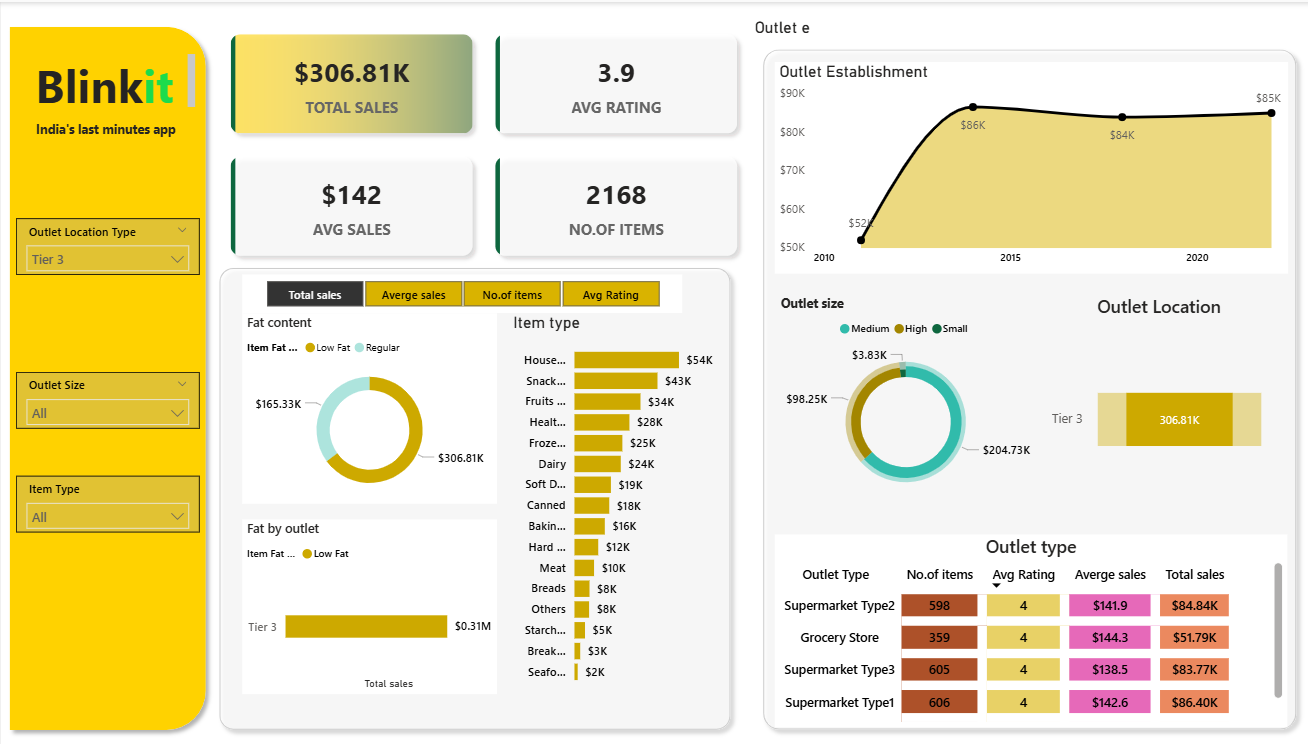

The dashboard page shown, as its layout file describes it:
{"tool":"powerbi","page":{"name":"Page 1","canvas":[1400,800],"ordinal":0},"visuals":[{"type":"shape","box":[0,17.4,225.7,762.2],"z":0},{"type":"textbox","box":[15.6,50.6,194.7,70.1],"z":1000},{"type":"textbox","box":[0,120.7,221.9,33.1],"z":2000},{"type":"cardVisual","fields":{"Data":["BlinkIT Grocery Data.Total sales","BlinkIT Grocery Data.Avg Rating","BlinkIT Grocery Data.Averge sales","BlinkIT Grocery Data.No.of items"]},"box":[225.7,17.4,571.2,269.8],"z":3000},{"type":"shape","box":[222.5,273,558.6,506.5],"z":4000},{"type":"donutChart","title":"Fat content","fields":{"Y":["BlinkIT Grocery Data.Total sales"],"Category":["BlinkIT Grocery Data.Item Fat Content"]},"box":[255.6,329.8,269.8,202],"z":5000},{"type":"slicer","fields":{"Values":["Metrics.Metrics"]},"box":[255,288.1,465.2,40.9],"z":6000},{"type":"clusteredBarChart","title":"Fat by outlet","fields":{"Y":["BlinkIT Grocery Data.Total sales"],"Category":["BlinkIT Grocery Data.Outlet Location Type"],"Series":["BlinkIT Grocery Data.Item Fat Content"]},"box":[255.6,547.6,269.8,184.6],"z":7000},{"type":"barChart","title":"Item type","fields":{"Y":["BlinkIT Grocery Data.Total sales"],"Category":["BlinkIT Grocery Data.Item Type"]},"box":[536.5,329.8,227.2,402.4],"z":8000},{"type":"shape","title":"Outlet e","box":[797.6,17.2,582,761.9],"z":9000},{"type":"lineChart","title":"Outlet Establishment ","fields":{"Category":["BlinkIT Grocery Data.Outlet Establishment Year"],"Y":["BlinkIT Grocery Data.Total sales"]},"box":[819,63.1,542.8,224.1],"z":10000},{"type":"donutChart","title":"Outlet size","fields":{"Y":["BlinkIT Grocery Data.Total sales"],"Category":["BlinkIT Grocery Data.Outlet Size"]},"box":[820.6,309.3,275,225],"z":11000},{"type":"funnel","title":"Outlet Location ","fields":{"Y":["Sum(BlinkIT Grocery Data.Sales)"],"Category":["BlinkIT Grocery Data.Outlet Location Type"]},"box":[1107.8,309.3,236.7,238.3],"z":12000},{"type":"pivotTable","title":"Outlet type","fields":{"Rows":["BlinkIT Grocery Data.Outlet Type"],"Values":["BlinkIT Grocery Data.No.of items","BlinkIT Grocery Data.Avg Rating","BlinkIT Grocery Data.Averge sales","BlinkIT Grocery Data.Total sales"]},"box":[818.8,563.5,542.3,203.7],"z":13000},{"type":"slicer","fields":{"Values":["BlinkIT Grocery Data.Outlet Location Type"]},"box":[15.8,228.8,194.1,60],"z":13001},{"type":"slicer","fields":{"Values":["BlinkIT Grocery Data.Outlet Size"]},"box":[15.8,391.3,194.1,60],"z":13002},{"type":"slicer","fields":{"Values":["BlinkIT Grocery Data.Item Type"]},"box":[15.8,501.8,194.1,60],"z":13003}]}

Visuals, with their boxes in screenshot pixels (x1, y1, x2, y2), scaled from the page's 1400x800 canvas onto the 1308x744 screenshot:
shape: x1=0, y1=16, x2=211, y2=725
textbox: x1=15, y1=47, x2=196, y2=112
textbox: x1=0, y1=112, x2=207, y2=143
cardVisual - BlinkIT Grocery Data.Total sales x BlinkIT Grocery Data.Avg Rating: x1=211, y1=16, x2=745, y2=267
shape: x1=208, y1=254, x2=730, y2=725
"Fat content" donutChart: x1=239, y1=307, x2=491, y2=495
slicer - Metrics.Metrics: x1=238, y1=268, x2=673, y2=306
"Fat by outlet" clusteredBarChart: x1=239, y1=509, x2=491, y2=681
"Item type" barChart: x1=501, y1=307, x2=714, y2=681
"Outlet e" shape: x1=745, y1=16, x2=1289, y2=725
"Outlet Establishment " lineChart: x1=765, y1=59, x2=1272, y2=267
"Outlet size" donutChart: x1=767, y1=288, x2=1024, y2=497
"Outlet Location " funnel: x1=1035, y1=288, x2=1256, y2=509
"Outlet type" pivotTable: x1=765, y1=524, x2=1272, y2=713
slicer - BlinkIT Grocery Data.Outlet Location Type: x1=15, y1=213, x2=196, y2=269
slicer - BlinkIT Grocery Data.Outlet Size: x1=15, y1=364, x2=196, y2=420
slicer - BlinkIT Grocery Data.Item Type: x1=15, y1=467, x2=196, y2=522
